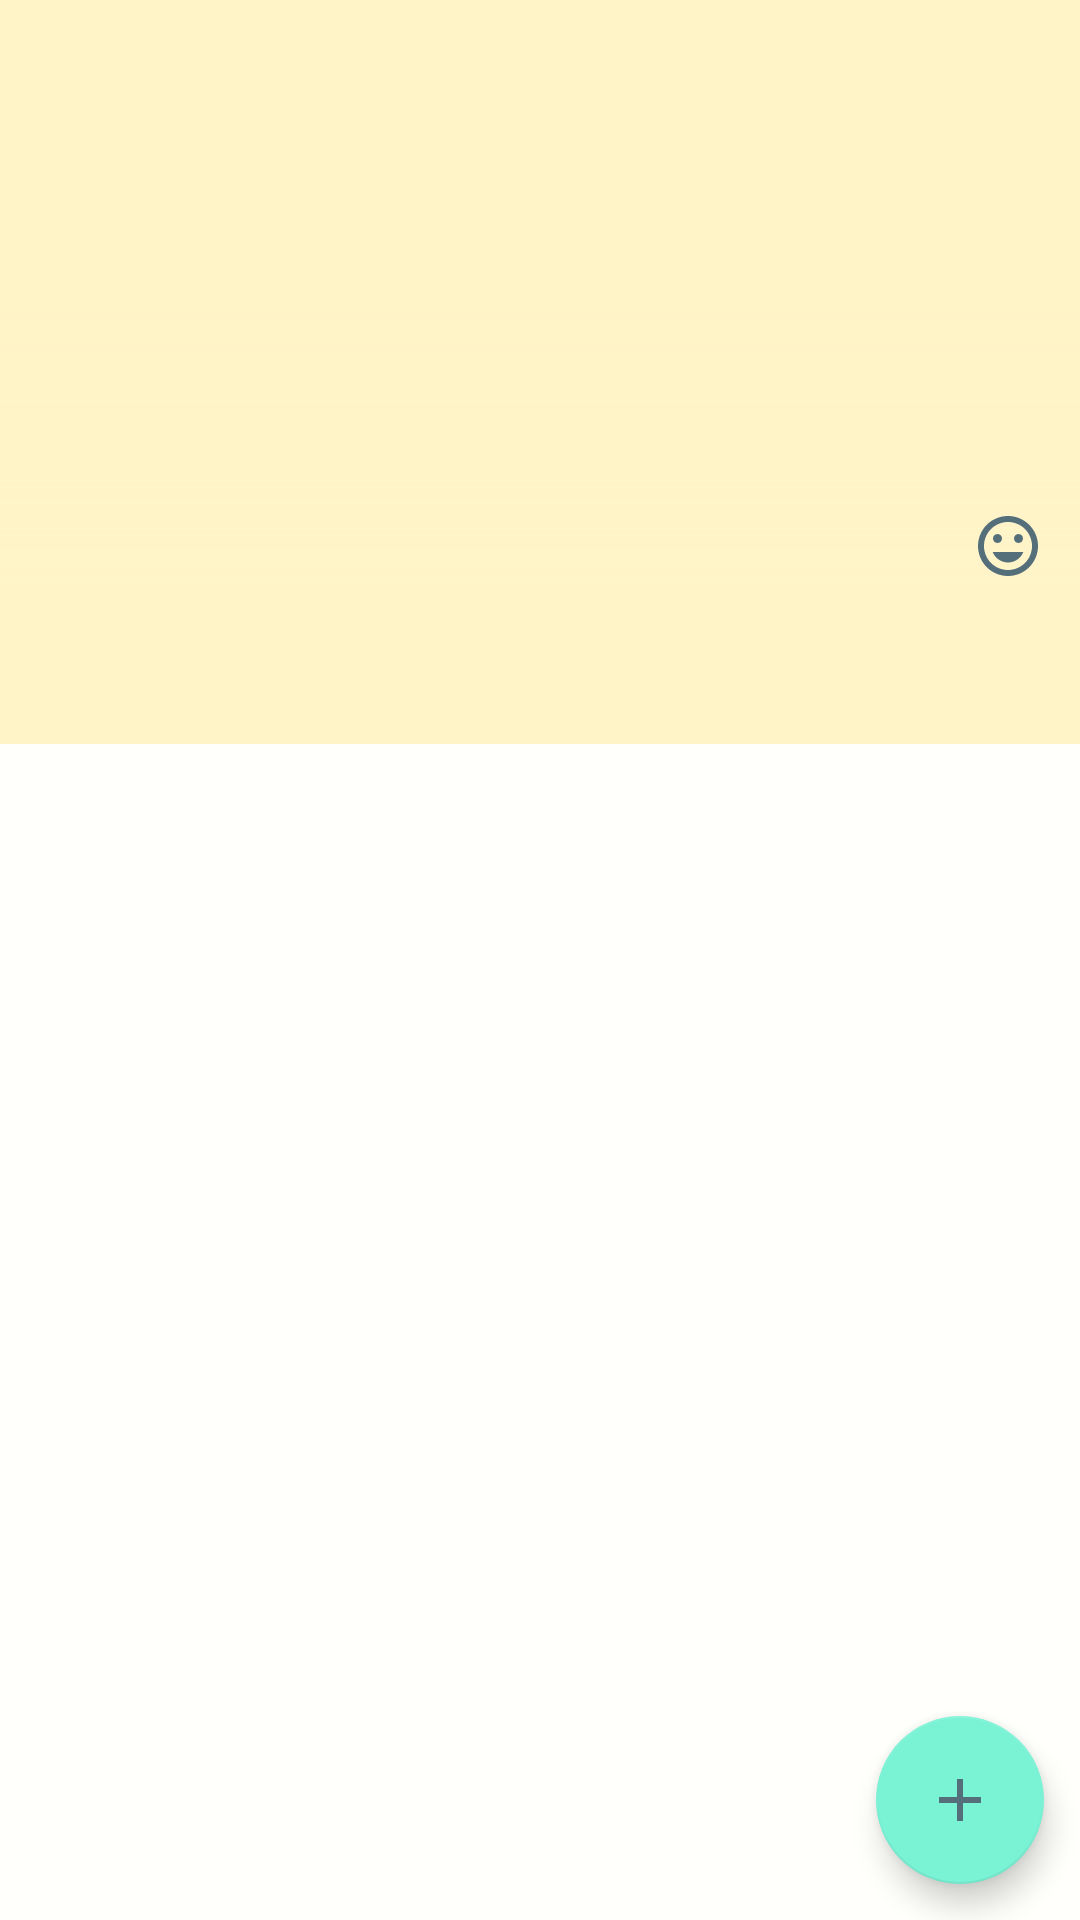

Screen size 1080×1920. Icon name, then its center in pixels as (x,y):
add: (960,1800)
